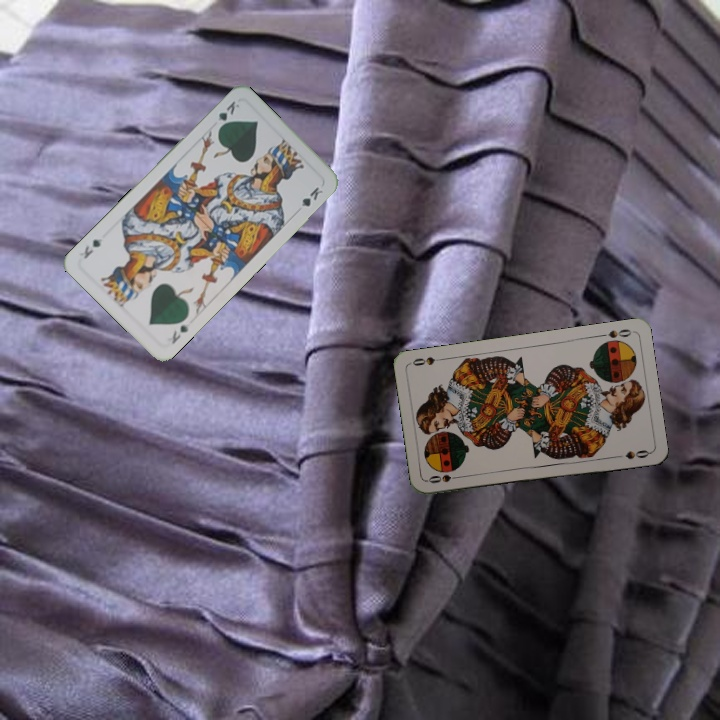GK: (213, 97, 242, 133), (167, 321, 191, 346)
SO: (424, 470, 465, 486), (594, 325, 634, 341)
